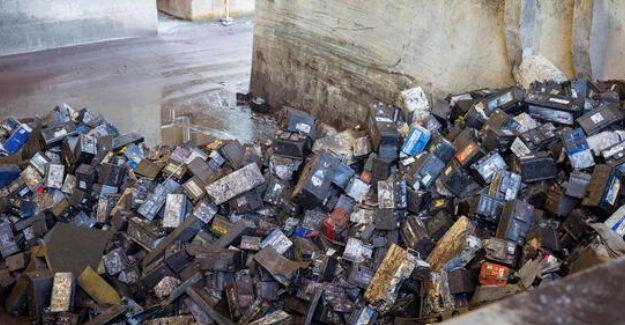electronic: (12, 268, 78, 323), (297, 150, 354, 210), (410, 135, 461, 189), (474, 175, 525, 228), (374, 252, 419, 312), (136, 176, 185, 223), (273, 107, 318, 157), (585, 161, 625, 210), (470, 86, 525, 121), (524, 86, 584, 117), (2, 116, 44, 158), (366, 102, 401, 152), (305, 288, 351, 325), (574, 103, 622, 137), (420, 269, 455, 314), (225, 273, 257, 320), (165, 269, 206, 305), (561, 127, 593, 172), (138, 262, 178, 298), (289, 156, 317, 205), (566, 244, 610, 275), (467, 282, 521, 307), (447, 235, 484, 271), (479, 111, 517, 146), (5, 273, 33, 317), (517, 154, 558, 184), (471, 151, 507, 185), (62, 134, 94, 170), (542, 186, 576, 218), (561, 208, 592, 243), (482, 237, 518, 267), (528, 221, 561, 253), (400, 125, 432, 158), (259, 226, 294, 256), (198, 249, 239, 274), (127, 217, 159, 249), (186, 155, 218, 186), (518, 124, 556, 150), (423, 208, 452, 242), (230, 187, 265, 215), (111, 188, 136, 227), (517, 254, 545, 288), (402, 152, 430, 185), (40, 122, 74, 149), (198, 139, 232, 166), (402, 215, 429, 249), (445, 91, 480, 117), (125, 303, 166, 325), (102, 247, 131, 278), (183, 296, 215, 324), (220, 140, 248, 171), (185, 241, 226, 262), (478, 261, 511, 287), (463, 101, 492, 130), (269, 154, 299, 182), (446, 266, 474, 296), (342, 236, 372, 264), (603, 199, 625, 236), (453, 130, 480, 160), (171, 225, 201, 252), (15, 212, 46, 238), (233, 212, 269, 234), (564, 170, 591, 199), (0, 220, 20, 259), (192, 196, 218, 226), (97, 162, 125, 189), (298, 209, 327, 235), (25, 246, 51, 275), (133, 156, 164, 180), (164, 248, 191, 275), (347, 263, 375, 289), (209, 214, 237, 240), (111, 132, 145, 153), (181, 175, 207, 202), (372, 206, 399, 232), (600, 134, 625, 161), (291, 236, 318, 261), (132, 177, 156, 205), (370, 155, 394, 183), (205, 270, 229, 298), (262, 177, 285, 206), (81, 111, 111, 133), (295, 277, 321, 302), (430, 99, 454, 126), (74, 163, 97, 191), (282, 294, 311, 316), (20, 163, 43, 190), (122, 143, 145, 169), (256, 279, 282, 302), (406, 188, 428, 215), (0, 163, 22, 190), (45, 162, 66, 190), (510, 136, 534, 160), (319, 255, 339, 283), (8, 182, 32, 205), (242, 147, 265, 170), (377, 180, 395, 208), (50, 197, 71, 220), (351, 134, 372, 157), (169, 145, 193, 165), (0, 116, 22, 137), (72, 210, 96, 229), (17, 199, 38, 220), (67, 187, 86, 209), (162, 161, 184, 180), (596, 91, 622, 107), (60, 173, 78, 196), (395, 179, 408, 210), (446, 123, 466, 143), (49, 106, 68, 127), (371, 245, 388, 268), (423, 115, 443, 134), (96, 197, 110, 224), (96, 134, 113, 155), (19, 117, 41, 133), (240, 235, 262, 251), (385, 227, 400, 249), (74, 107, 91, 125), (470, 88, 494, 100), (363, 152, 376, 173), (391, 104, 403, 123)
